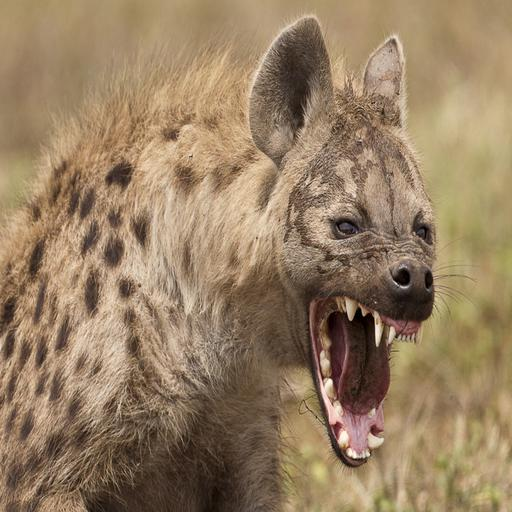Hyena: (0, 12, 478, 512)
